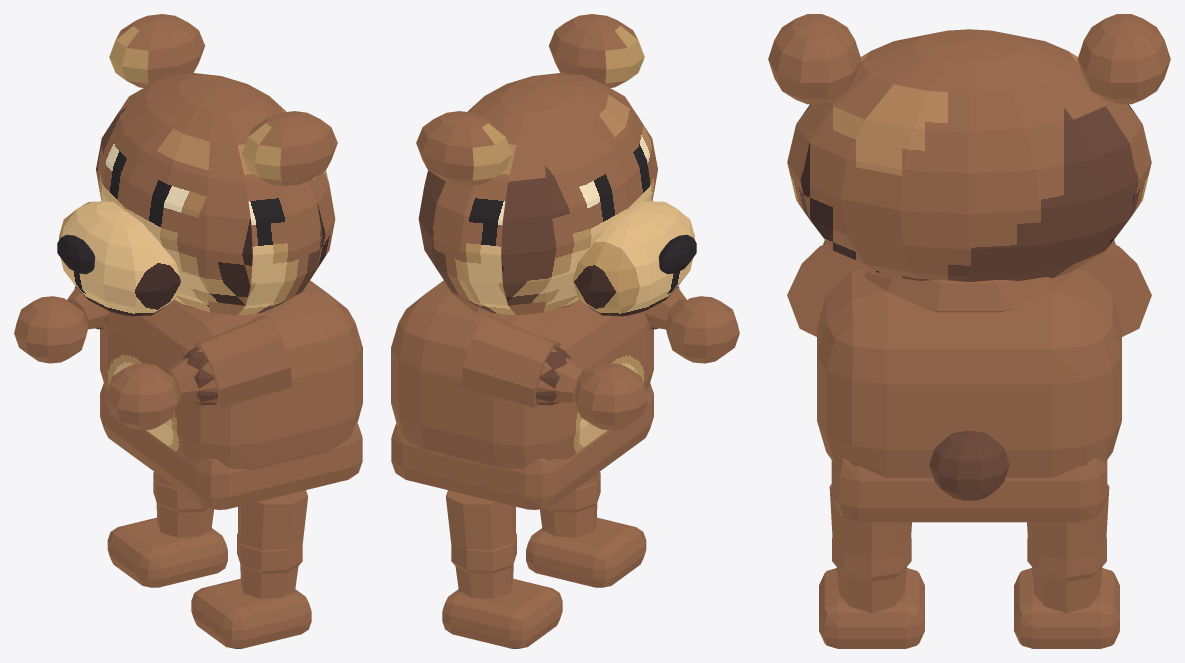
File: rider.glb
3 renders of one model, left to right at view 1: azimuth 30°, elevation 25°; view 2: azimuth 150°, elevation 25°; view 3: azimuth 270°, elevation 25°, orthographic. The views are drawn at different scales.
Visible parts, largest first — view 1: Bear_static_seated; view 2: Bear_static_seated; view 3: Bear_static_seated.
Part boxes in pixels (x1,y1,x2,y2): Bear_static_seated: (14, 14, 362, 648); Bear_static_seated: (391, 14, 739, 648); Bear_static_seated: (768, 14, 1170, 648).
Bounding box in the file's own units: 15.81 × 27.99 × 16.52.
1 material, 1 textured.
